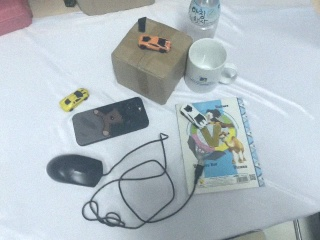book: (180, 95, 266, 192)
bottle: (187, 1, 221, 41)
box: (111, 16, 193, 105)
cup: (184, 38, 239, 90)
mouse: (46, 152, 104, 187)
phone: (72, 96, 149, 147)
toy_car: (179, 100, 211, 130), (135, 34, 176, 53), (59, 87, 89, 112)
